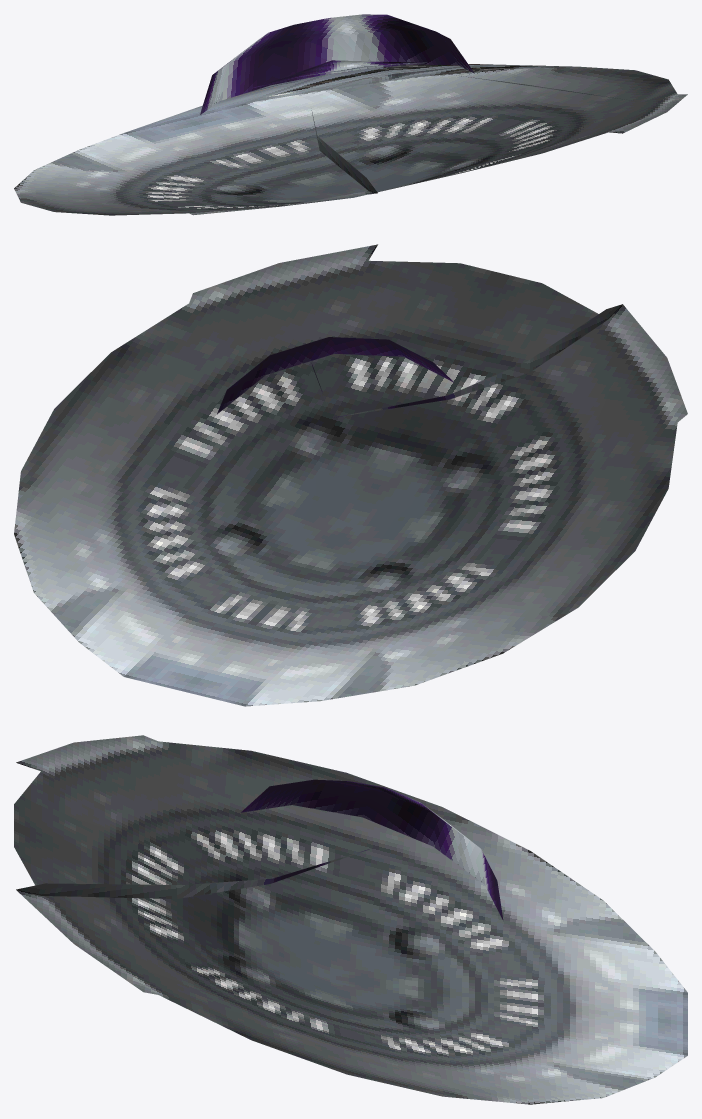
The model's file is ps2_save-icons_destroyallhumans2.glb.
3 views of the same model, one above another, from view 1: azimuth 30°, elevation 25°; view 2: azimuth 150°, elevation 25°; view 3: azimuth 270°, elevation 25° (orthographic). The views are drawn at different scales.
Parts seen in each view (by area): view 1: view.icn; view 2: view.icn; view 3: view.icn.
Part boxes in pixels (x1,y1,x2,y2): view.icn: [14, 14, 687, 215]; view.icn: [14, 244, 687, 706]; view.icn: [14, 735, 687, 1104].
Bounding box in the file's own units: 5 × 1.75 × 4.72.
1 material, 1 textured.
